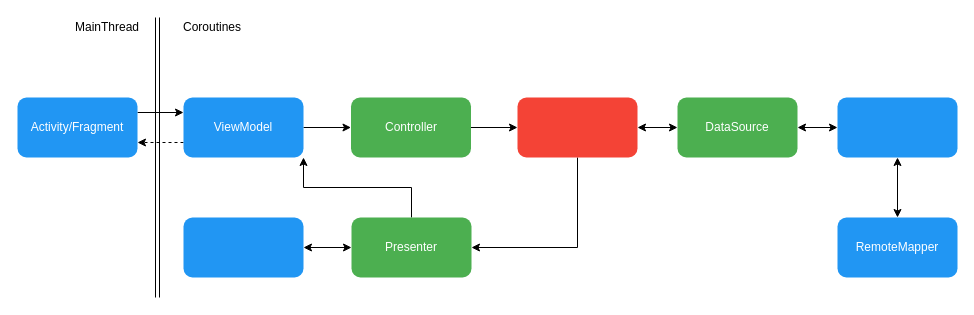
Some shapes in this 974 by 315 pixel diagram are drawn without their labels. Here are the shapes that lost their labels. From the top down, the centre of each, then its label:
At point (577, 127): "Interactor".
At point (897, 127): "RemoteService".
At point (243, 247): "ViewStateMapper".
